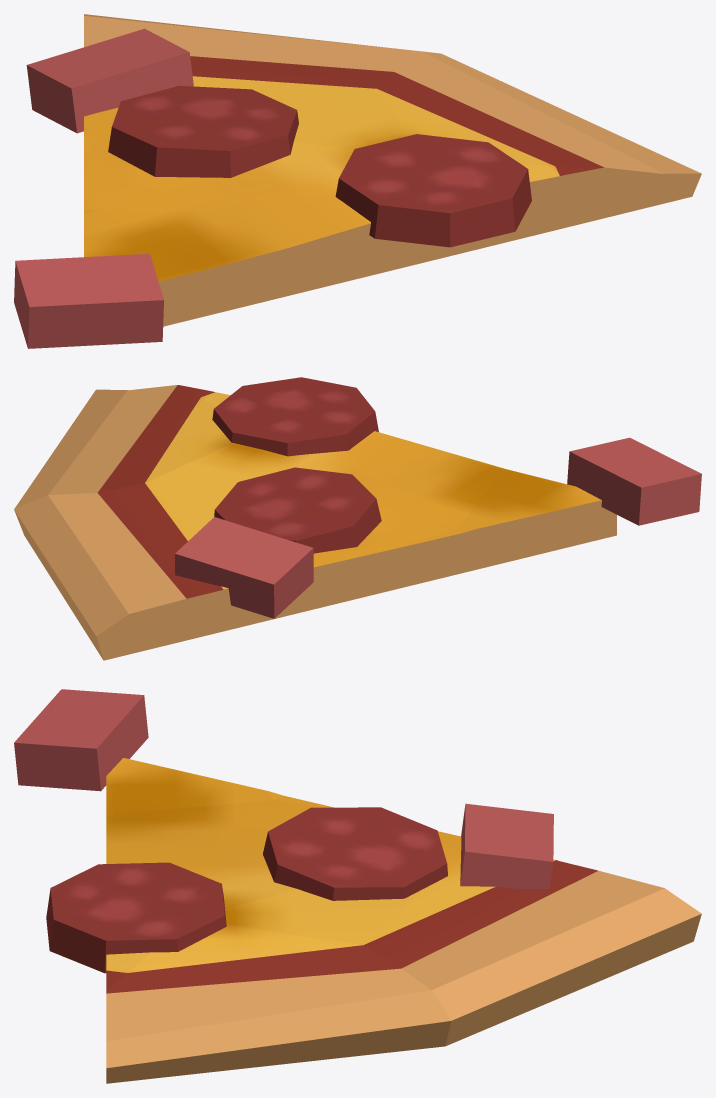
File: SM_Prop_Food_Pizza_Cooked_08.01.obj
3 renders of one model, top to bottom at view 1: azimuth 30°, elevation 25°; view 2: azimuth 150°, elevation 25°; view 3: azimuth 270°, elevation 25°, orthographic. The views are drawn at different scales.
Visible parts, largest first — view 1: SM_Prop_Food_Pizza_Cooked_08.01_0; view 2: SM_Prop_Food_Pizza_Cooked_08.01_0; view 3: SM_Prop_Food_Pizza_Cooked_08.01_0.
Boxes of the visible parts, left/top/right/bottom form: SM_Prop_Food_Pizza_Cooked_08.01_0: left=14, top=14, right=701, bottom=348; SM_Prop_Food_Pizza_Cooked_08.01_0: left=14, top=377, right=701, bottom=660; SM_Prop_Food_Pizza_Cooked_08.01_0: left=14, top=689, right=701, bottom=1083.
Bounding box in the file's own units: 0.3162 × 0.0378 × 0.2806.
1 material, 1 textured.
